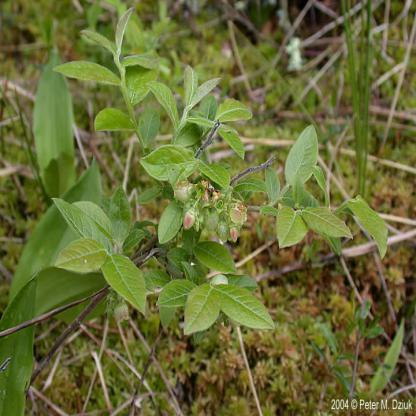blueberry leaf: (341, 187, 396, 263), (211, 281, 278, 339), (105, 247, 153, 323), (281, 115, 320, 200), (56, 198, 114, 253), (214, 93, 256, 165), (177, 280, 224, 343), (187, 240, 250, 283), (173, 63, 218, 123), (88, 103, 139, 146), (275, 198, 314, 254), (296, 206, 358, 241), (52, 237, 109, 275), (105, 183, 135, 247), (50, 59, 112, 89), (107, 8, 135, 74)
